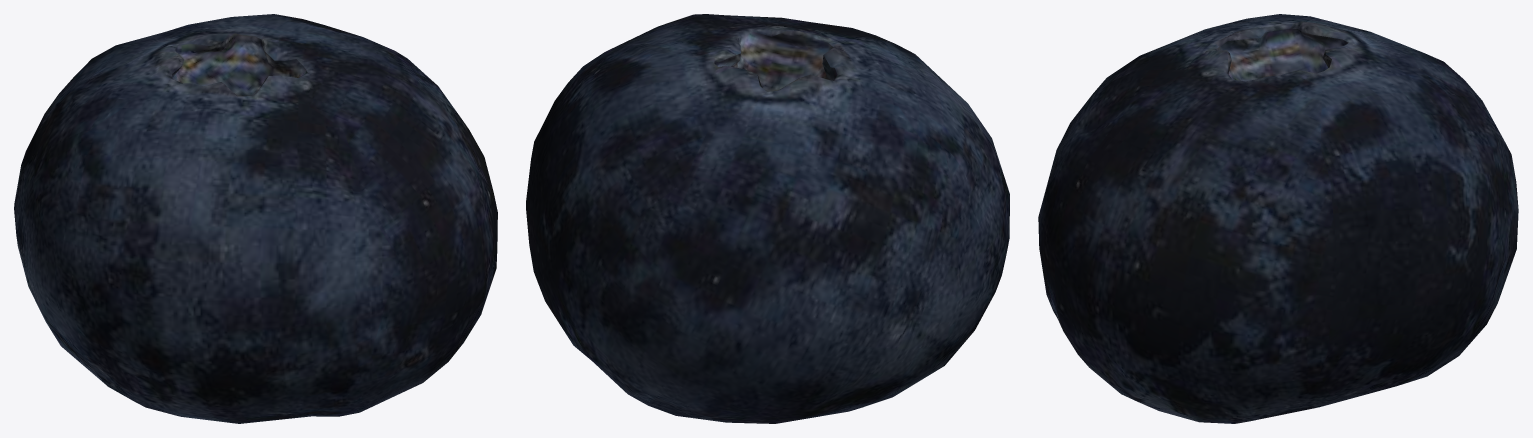
The model's file is arandano-hero.glb.
3 renders of one model, left to right at view 1: azimuth 30°, elevation 25°; view 2: azimuth 150°, elevation 25°; view 3: azimuth 270°, elevation 25°, orthographic. The views are drawn at different scales.
Parts seen in each view (by area): view 1: Object_2; view 2: Object_2; view 3: Object_2.
Part boxes in pixels (bbox=[...]): Object_2: bbox=[14, 14, 497, 423]; Object_2: bbox=[526, 14, 1009, 423]; Object_2: bbox=[1038, 14, 1518, 423].
Size of the model in its own units: 0.0215 by 0.0162 by 0.0216.
1 material, 1 textured.
